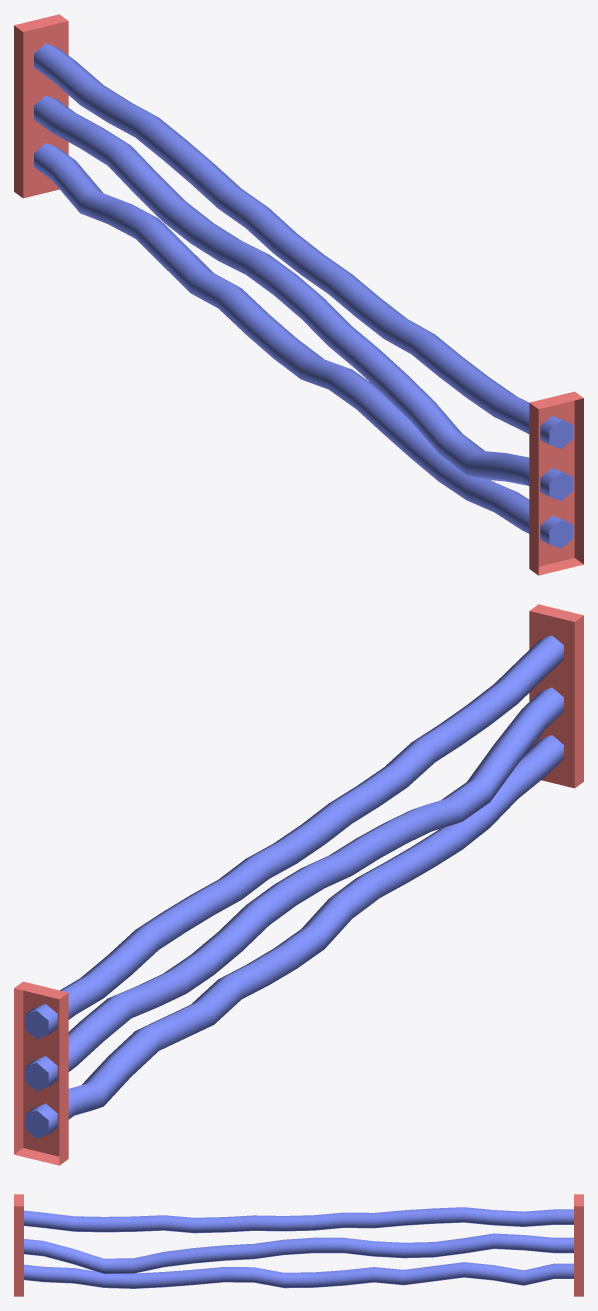
File: SM_Tunnel_Wires.fbx
The picture shows the model from 3 angles, top to bottom: view 1: azimuth 30°, elevation 25°; view 2: azimuth 150°, elevation 25°; view 3: azimuth 270°, elevation 25°; orthographic projection. The views are drawn at different scales.
Visible parts, largest first — view 1: Object010; view 2: Object010; view 3: Object010.
Part boxes in pixels (<box>): Object010: <box>14,14,583,575</box>; Object010: <box>14,604,583,1165</box>; Object010: <box>14,1194,583,1296</box>.
Bounding box in the file's own units: 3.94 × 13.78 × 78.74.
